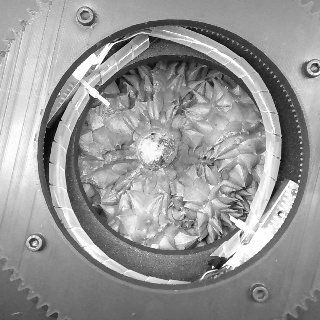base: (132, 122, 183, 177)
end: (137, 131, 178, 172)
